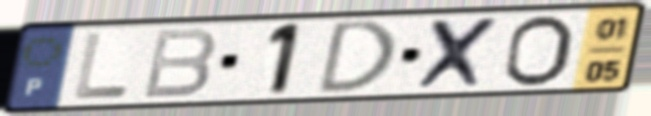1: (262, 20, 307, 98)
B: (138, 26, 221, 101)
D: (313, 17, 400, 97)
L: (70, 30, 133, 102)
O: (498, 13, 576, 90)
X: (412, 15, 508, 93)
